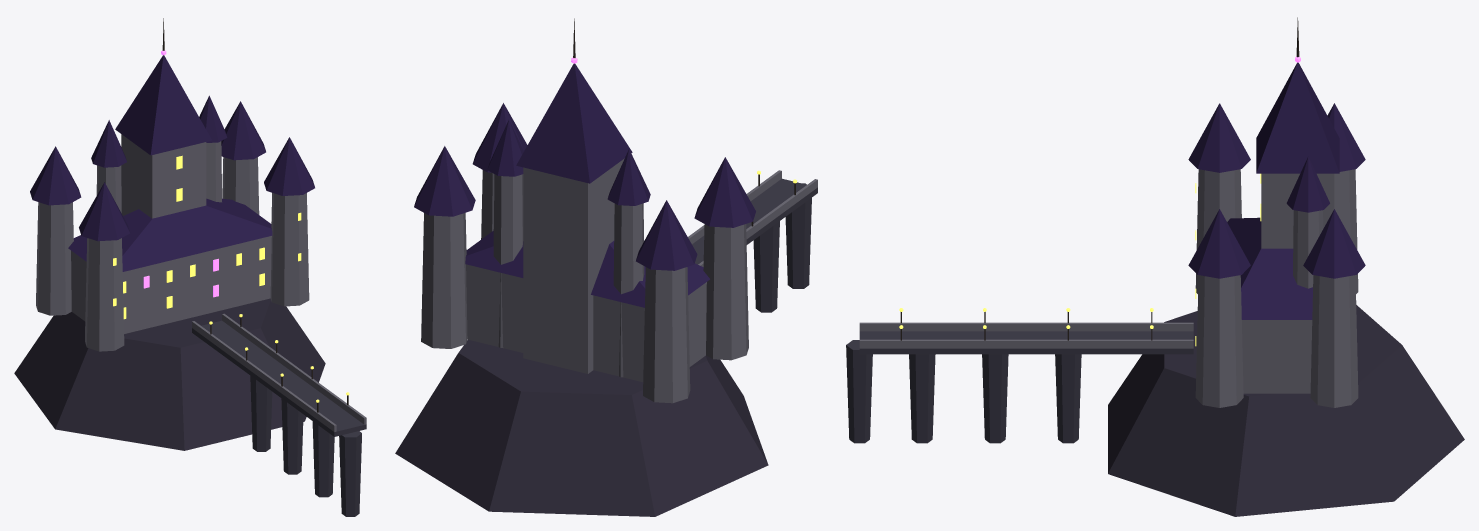
Rendered from castle.glb.
3 views of the same model, side by side, from view 1: azimuth 30°, elevation 25°; view 2: azimuth 150°, elevation 25°; view 3: azimuth 270°, elevation 25° (orthographic). The views are drawn at different scales.
Visible parts, largest first — view 1: RockBase, Hall, HallRoof, Keep, KeepRoof, Tower_1, Tower_2, BridgeDeck, Tower_3, TowerRoof_1, TowerRoof_3, TowerRoof_2 (+12 smaller); view 2: RockBase, Keep, Hall, KeepRoof, Tower_3, Tower_4, Tower_1, HallRoof, SideTower_R, SideTower_L, TowerRoof_3, TowerRoof_4 (+10 smaller); view 3: RockBase, KeepRoof, Tower_2, Tower_4, BridgeDeck, HallRoof, Hall, BridgeWall_R, BridgeWall_L, Keep, Tower_1, TowerRoof_1 (+10 smaller).
Part boxes in pixels (x1,y1,x2,y2): RockBase: (14, 298, 325, 450); Hall: (71, 236, 271, 333); HallRoof: (68, 198, 272, 271); Keep: (121, 134, 206, 218); KeepRoof: (115, 55, 211, 155); Tower_1: (85, 238, 124, 351); Tower_2: (270, 193, 309, 306); BridgeDeck: (192, 320, 366, 436); Tower_3: (36, 202, 73, 315); TowerRoof_1: (79, 182, 129, 241); TowerRoof_3: (30, 146, 81, 205); TowerRoof_2: (264, 137, 314, 195); RockBase: (395, 339, 768, 516); Keep: (523, 158, 624, 373); Hall: (466, 264, 706, 381); KeepRoof: (516, 63, 632, 183); Tower_3: (643, 267, 690, 403); Tower_4: (421, 213, 467, 348); Tower_1: (703, 224, 748, 360); HallRoof: (465, 231, 709, 307); SideTower_R: (493, 174, 523, 347); SideTower_L: (613, 203, 644, 377); TowerRoof_3: (636, 200, 697, 270); TowerRoof_4: (414, 146, 475, 216); RockBase: (1108, 305, 1464, 516); KeepRoof: (1256, 62, 1339, 173); Tower_2: (1195, 275, 1243, 407); Tower_4: (1310, 275, 1358, 407); BridgeDeck: (859, 331, 1193, 354); HallRoof: (1227, 217, 1312, 319); Hall: (1242, 320, 1312, 393); BridgeWall_R: (859, 339, 1193, 348); BridgeWall_L: (859, 322, 1193, 331); Keep: (1261, 173, 1334, 248); Tower_1: (1195, 169, 1241, 293); TowerRoof_1: (1188, 103, 1250, 172).
Size of the model in its own units: 35.1 by 45 by 59.3.
